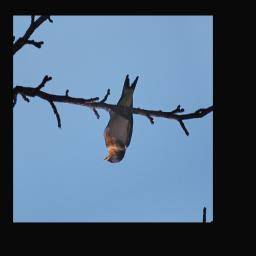Swallow: (87, 71, 156, 167)
